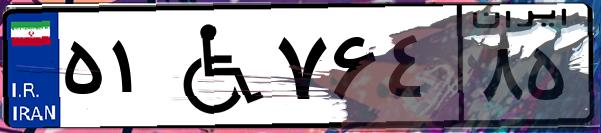1: (110, 28, 158, 98)
4: (385, 28, 445, 110)
5: (57, 26, 110, 100), (525, 38, 570, 115)
6: (330, 28, 385, 110)
7: (270, 28, 330, 110)
8: (475, 38, 525, 113)
ژ (معلولین و جانبازان): (158, 12, 270, 120)
